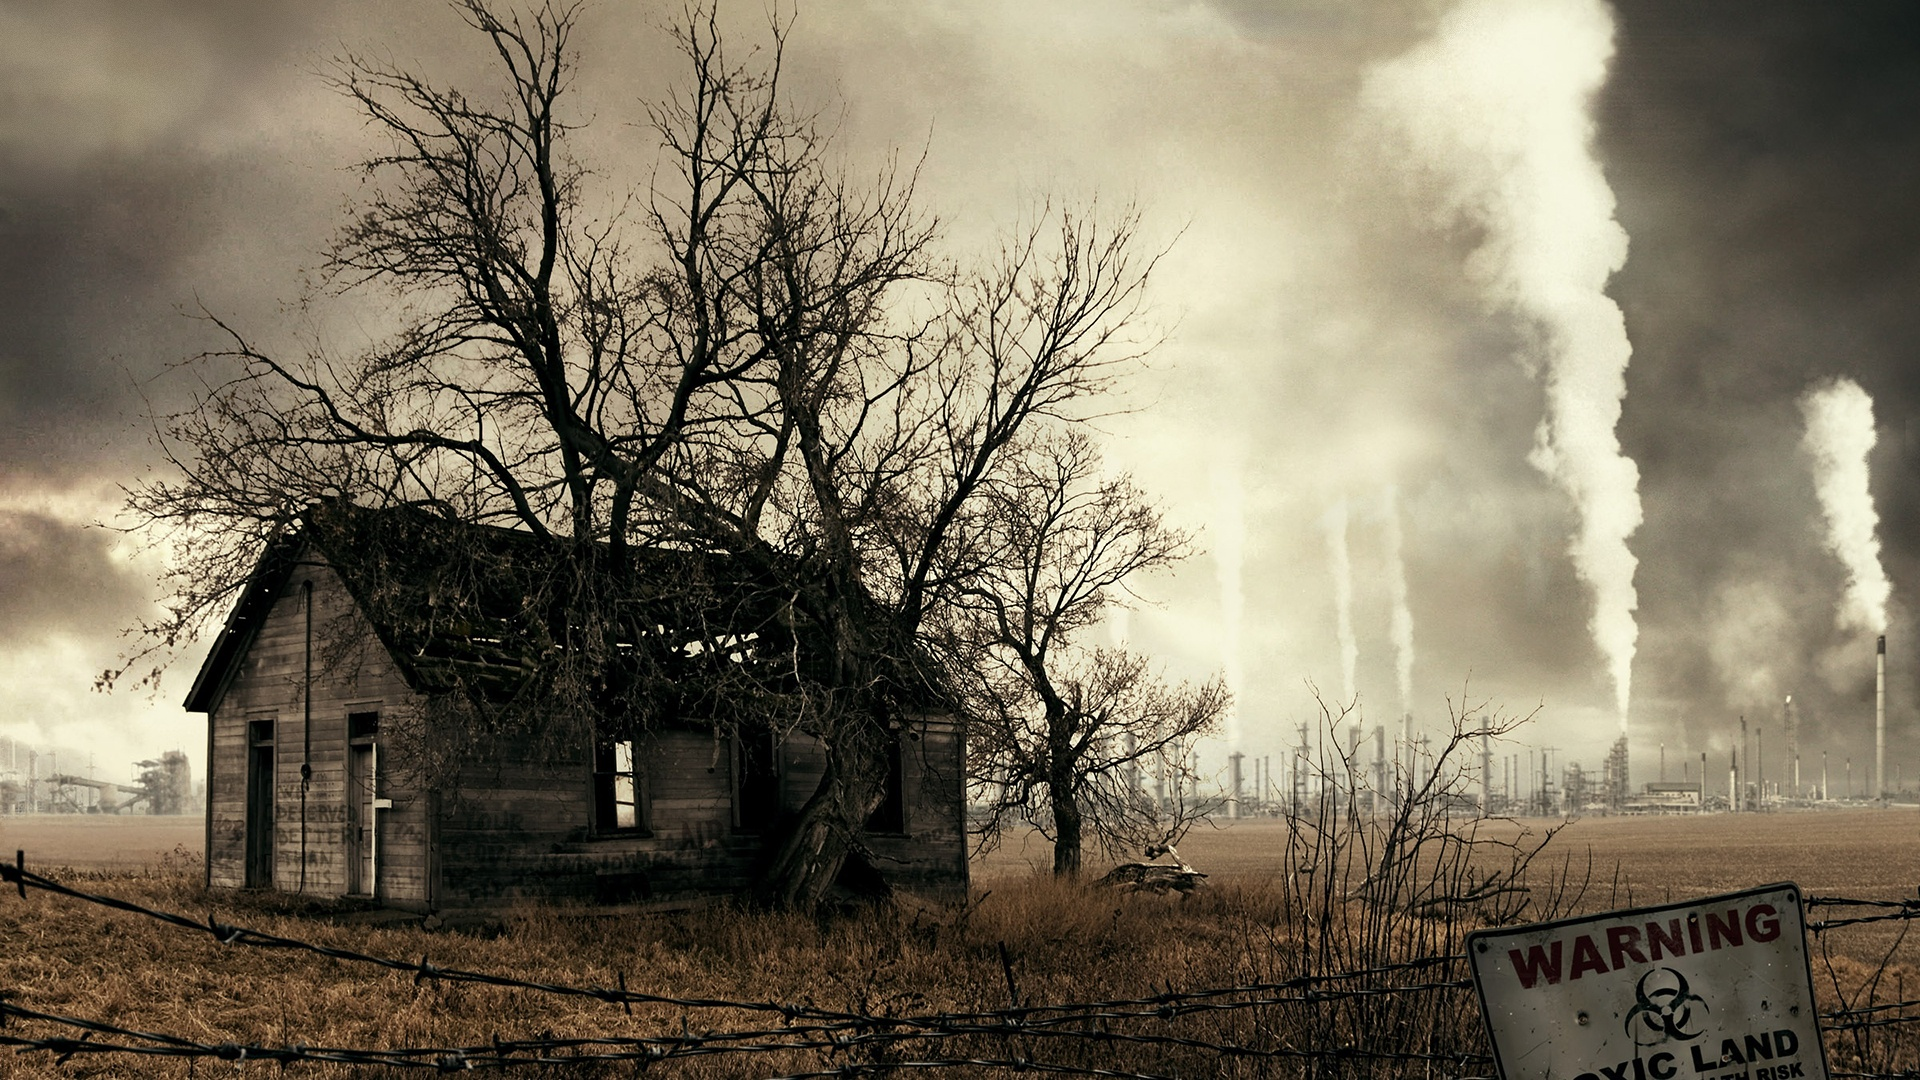dust: (1371, 33, 1693, 742), (1305, 479, 1439, 757), (1795, 353, 1903, 661)
